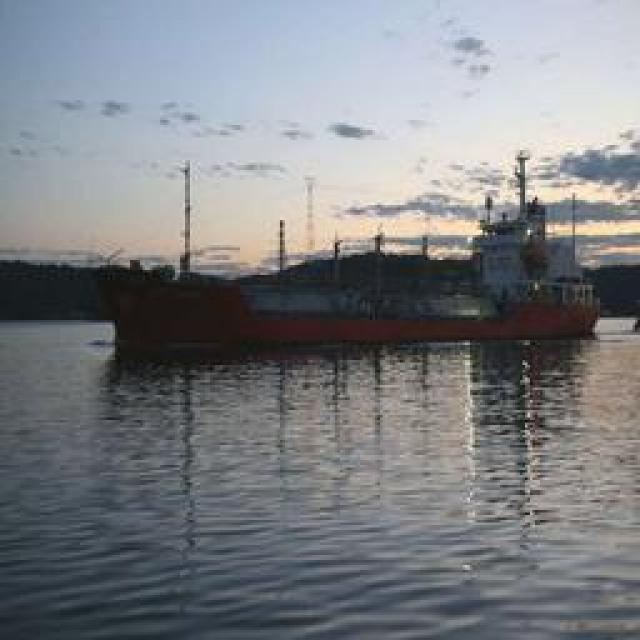CIV_Ship: (119, 265, 602, 343)
